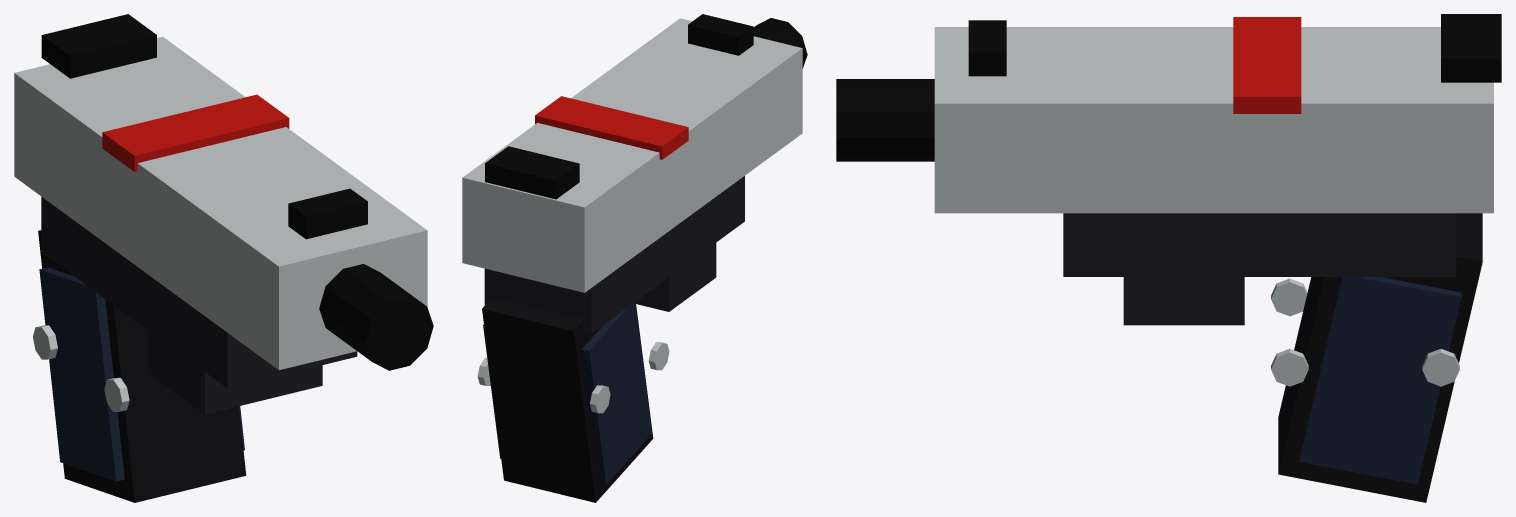
Rendered from Colt_Pistol.obj.
The picture shows the model from 3 angles, left to right: view 1: azimuth 30°, elevation 25°; view 2: azimuth 150°, elevation 25°; view 3: azimuth 270°, elevation 25°; orthographic projection. The views are drawn at different scales.
Parts seen in each view (by area): view 1: Slide, Grip, Frame, GripInsetLeft, Barrel, RedSideBand, TriggerGuard, RearSight, FrontSight, GripScrew, MuzzleSilver; view 2: Slide, Grip, Frame, GripInsetLeft, RedSideBand, RearSight, TriggerGuard, FrontSight, GripScrew, Barrel; view 3: Slide, Frame, GripInsetRight, Grip, Barrel, RedSideBand, TriggerGuard, RearSight, GripScrew, FrontSight.
Boxes of the visible parts, left/top/right/bottom form: Slide: left=14, top=36, right=427, bottom=370; Grip: left=38, top=230, right=246, bottom=502; Frame: left=41, top=196, right=357, bottom=388; GripInsetLeft: left=39, top=267, right=124, bottom=481; Barrel: left=319, top=264, right=433, bottom=370; RedSideBand: left=102, top=94, right=289, bottom=171; TriggerGuard: left=147, top=330, right=322, bottom=414; RearSight: left=41, top=14, right=156, bottom=78; FrontSight: left=288, top=188, right=367, bottom=239; GripScrew: left=33, top=325, right=129, bottom=411; MuzzleSilver: left=303, top=253, right=402, bottom=346; Slide: left=462, top=18, right=802, bottom=292; Grip: left=482, top=297, right=653, bottom=502; Frame: left=484, top=176, right=744, bottom=333; GripInsetLeft: left=582, top=302, right=652, bottom=484; RedSideBand: left=535, top=96, right=688, bottom=159; RearSight: left=485, top=146, right=579, bottom=199; TriggerGuard: left=635, top=243, right=716, bottom=311; FrontSight: left=688, top=14, right=753, bottom=55; GripScrew: left=477, top=342, right=669, bottom=413; Barrel: left=753, top=18, right=807, bottom=68; Slide: left=934, top=27, right=1493, bottom=213; Frame: left=1063, top=213, right=1456, bottom=276; GripInsetRight: left=1299, top=277, right=1461, bottom=484; Grip: left=1278, top=213, right=1482, bottom=502; Barrel: left=836, top=79, right=934, bottom=161; RedSideBand: left=1233, top=17, right=1301, bottom=113; TriggerGuard: left=1123, top=277, right=1244, bottom=325; RearSight: left=1441, top=14, right=1501, bottom=82; GripScrew: left=1271, top=278, right=1459, bottom=386; FrontSight: left=968, top=20, right=1006, bottom=76.
Bounding box in the file's own units: 0.25 × 0.6394 × 0.88.
